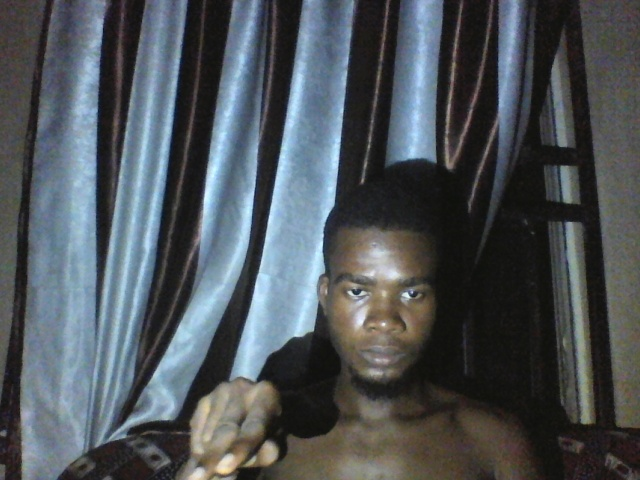no: (182, 358, 315, 480)
